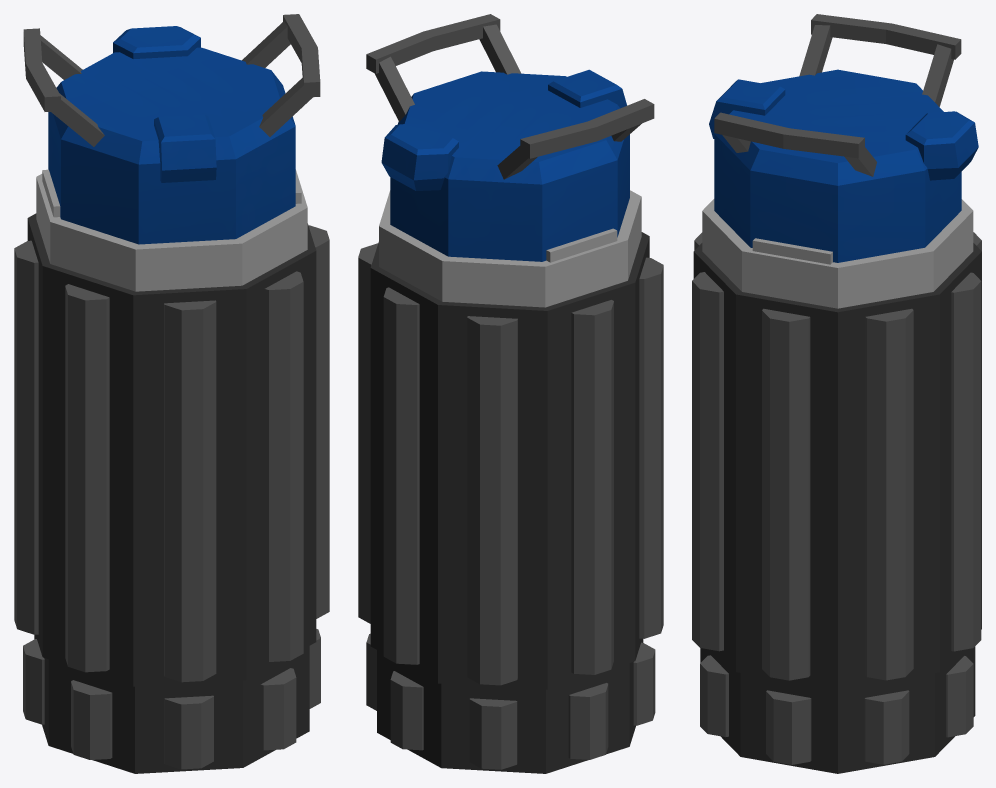
File: barrel_blue.fbx
3 renders of one model, left to right at view 1: azimuth 30°, elevation 25°; view 2: azimuth 150°, elevation 25°; view 3: azimuth 270°, elevation 25°, orthographic. The views are drawn at different scales.
Visible parts, largest first — view 1: Barrel_1; view 2: Barrel_1; view 3: Barrel_1.
Boxes of the visible parts, left/top/right/bottom form: Barrel_1: left=14, top=14, right=329, bottom=773; Barrel_1: left=358, top=14, right=663, bottom=773; Barrel_1: left=692, top=14, right=981, bottom=773.
Size of the model in its own units: 32.01 by 73.13 by 30.18.
